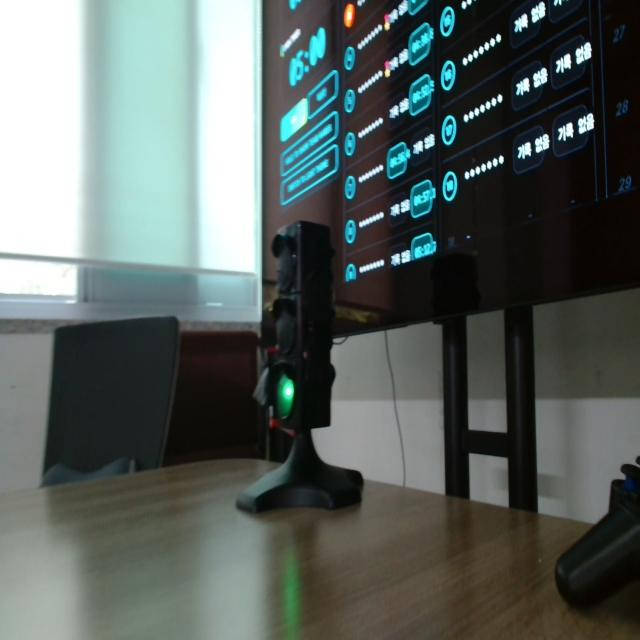green_light: (277, 374, 294, 418)
